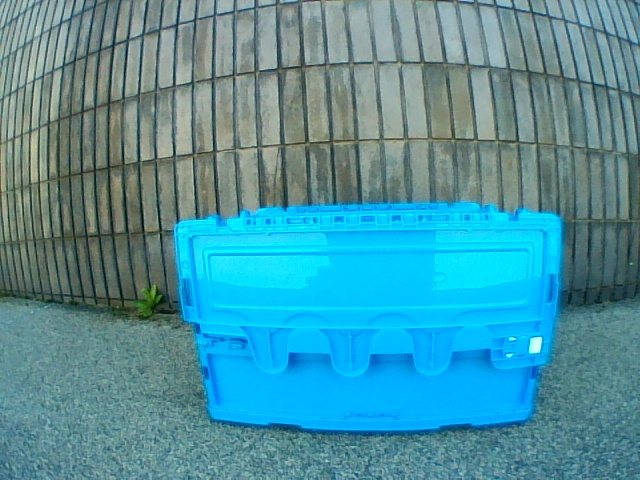blue_box: (174, 201, 562, 432)
